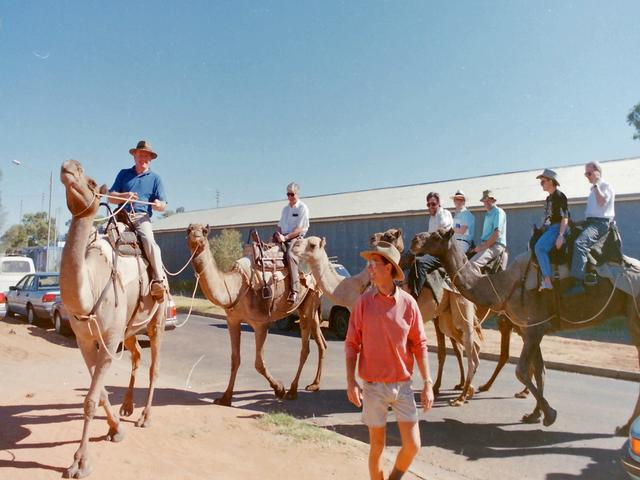camel: (41, 151, 166, 455), (178, 223, 336, 395)
